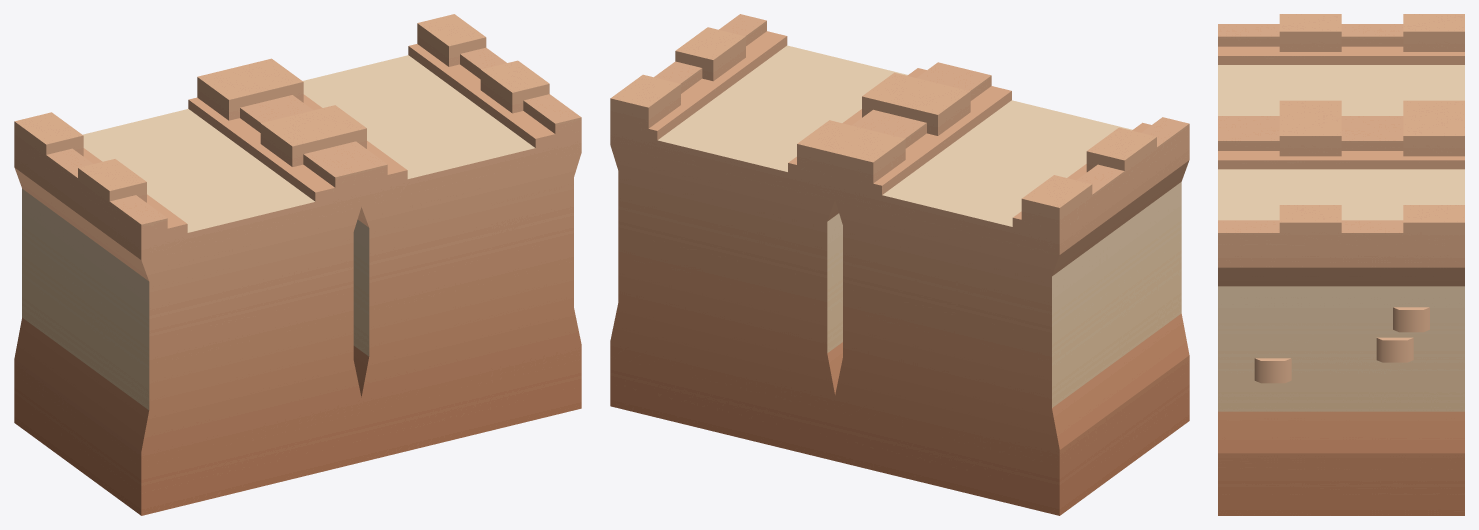
Rendered from town_wall.glb.
3 renders of one model, left to right at view 1: azimuth 30°, elevation 25°; view 2: azimuth 150°, elevation 25°; view 3: azimuth 270°, elevation 25°, orthographic. The views are drawn at different scales.
Visible parts, largest first — view 1: town_wall; view 2: town_wall; view 3: town_wall.
Part boxes in pixels (x1,y1,x2,y2): town_wall: (14, 14, 581, 515); town_wall: (610, 14, 1189, 515); town_wall: (1218, 14, 1464, 515).
Size of the model in its own units: 12 by 7.86 by 6.
Materials: 2 (2 with a texture image).
